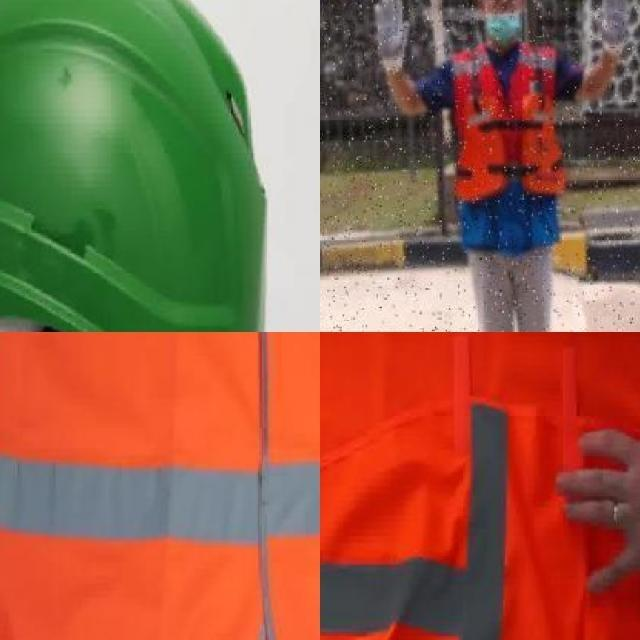apron: (374, 0, 409, 74), (591, 0, 628, 59)
